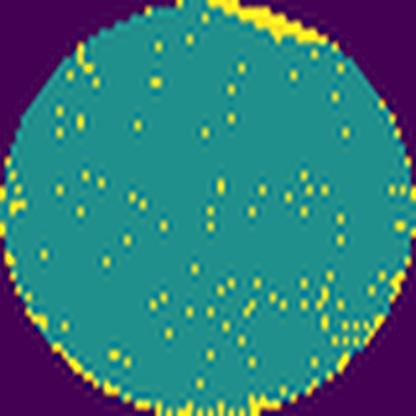Edge-Loc: (192, 0, 337, 57)
